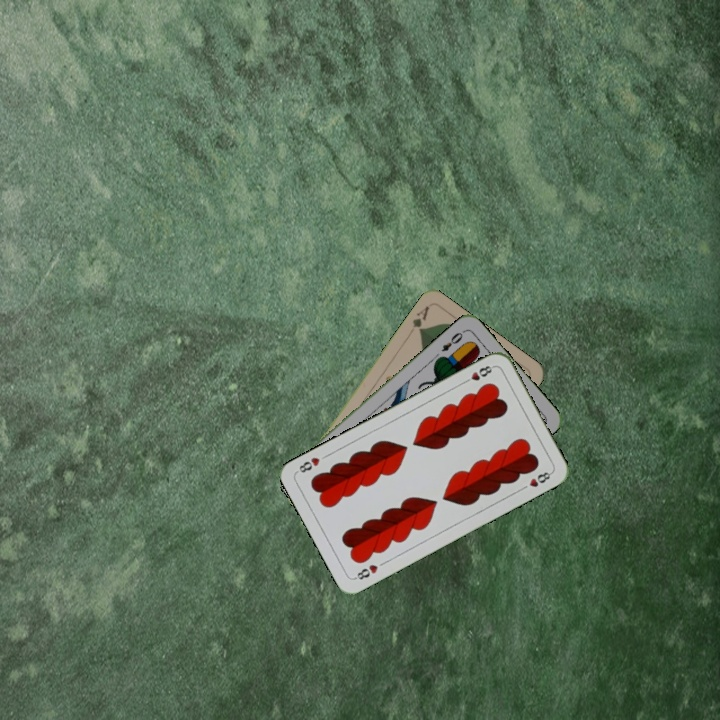EO: (437, 326, 467, 354)
GA: (408, 302, 432, 335)
H8: (459, 361, 497, 386), (350, 560, 381, 582)
